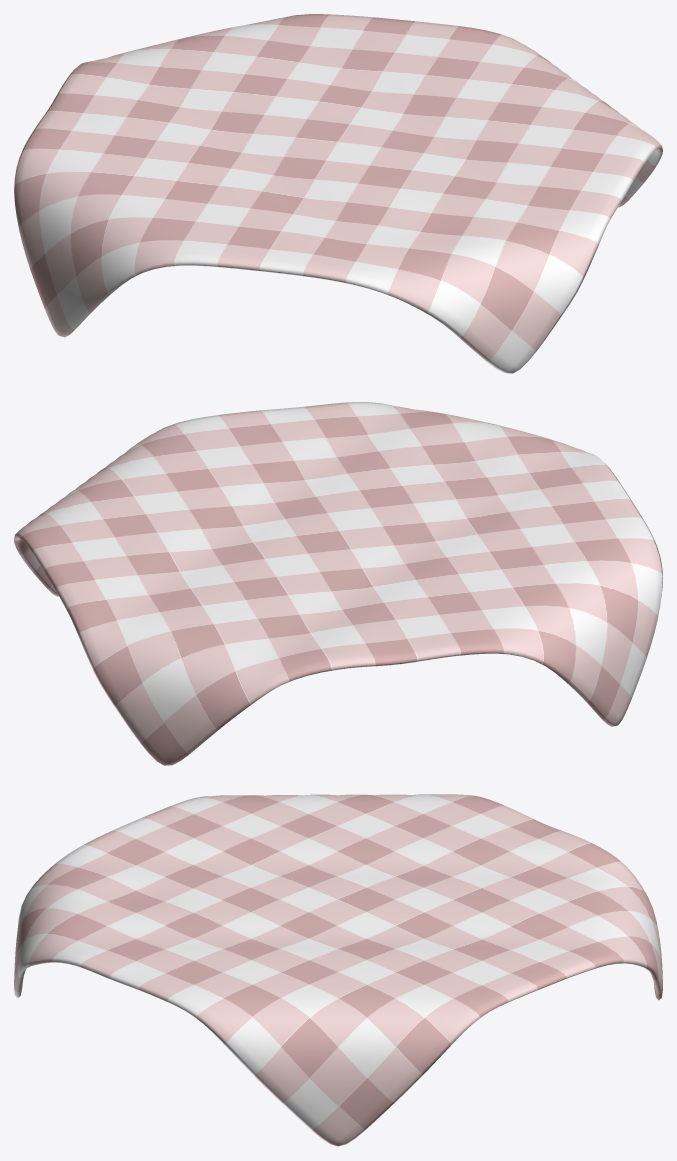
3 renders of one model, top to bottom at view 1: azimuth 30°, elevation 25°; view 2: azimuth 150°, elevation 25°; view 3: azimuth 270°, elevation 25°, orthographic. The views are drawn at different scales.
Parts seen in each view (by area): view 1: Plane.445; view 2: Plane.445; view 3: Plane.445.
Boxes of the visible parts, x1,y1,x2,y2 form: Plane.445: (14, 14, 662, 373); Plane.445: (14, 402, 662, 765); Plane.445: (14, 794, 662, 1146).
Size of the model in its own units: 0.6911 by 0.1564 by 0.7484.
Materials: 1 (1 with a texture image).
